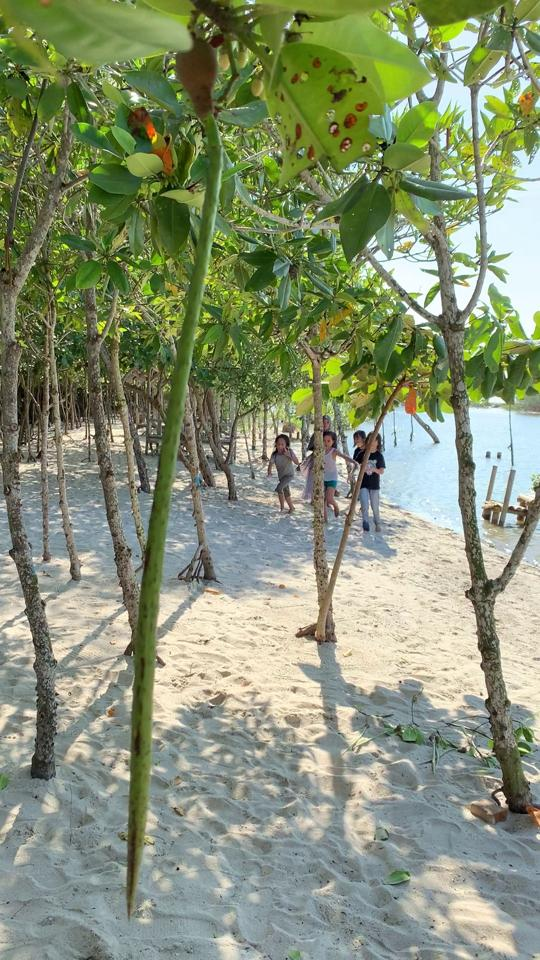mentah: (98, 19, 242, 934)
